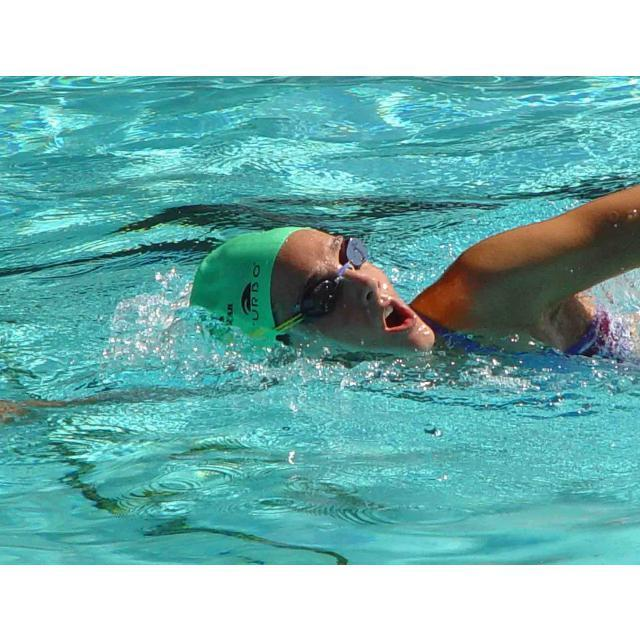human: (190, 174, 640, 373)
